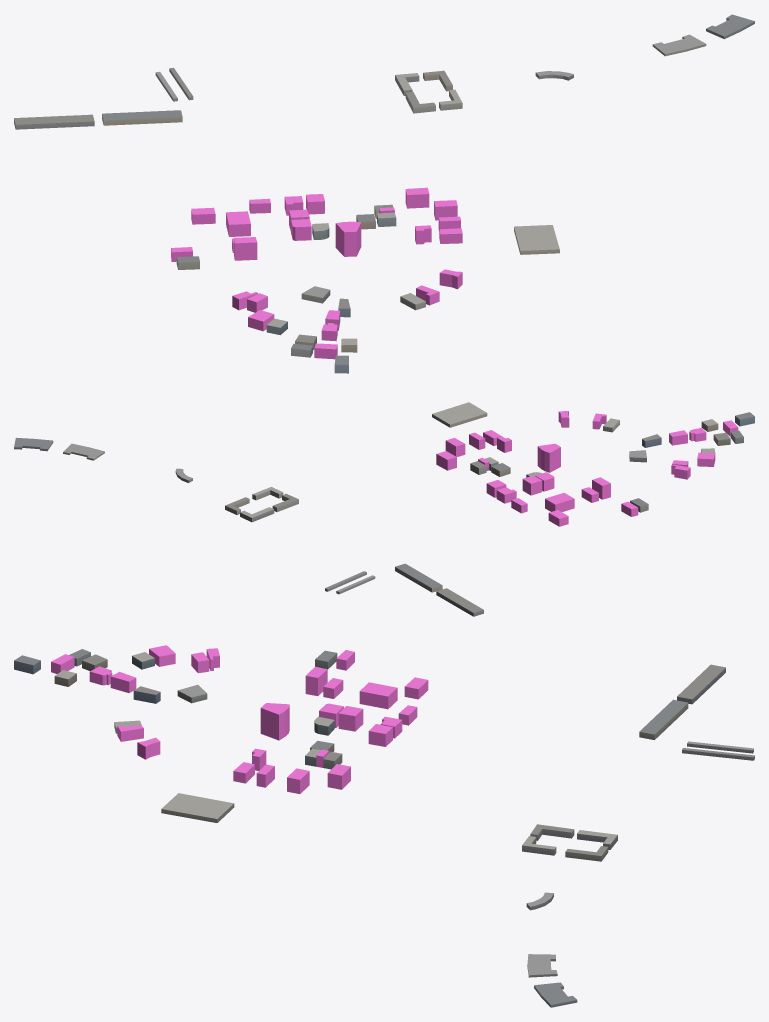
The model's file is bld_19_6.fbx.
The picture shows the model from 3 angles, top to bottom: view 1: azimuth 30°, elevation 25°; view 2: azimuth 150°, elevation 25°; view 3: azimuth 270°, elevation 25°; orthographic projection. The views are drawn at different scales.
Parts seen in each view (by area): view 1: bld_19_6_LOD0, bld_19_6_COL; view 2: bld_19_6_LOD0, bld_19_6_COL; view 3: bld_19_6_LOD0, bld_19_6_COL.
Boxes of the visible parts, box(x1,y1,x2,y2) form: bld_19_6_LOD0: box(14, 14, 754, 373); bld_19_6_COL: box(171, 187, 462, 359); bld_19_6_LOD0: box(14, 402, 754, 616); bld_19_6_COL: box(436, 411, 738, 526); bld_19_6_LOD0: box(14, 649, 754, 1007); bld_19_6_COL: box(51, 645, 428, 793).
Size of what is drawn, in the model's own units: 1971 by 67.48 by 1752.
